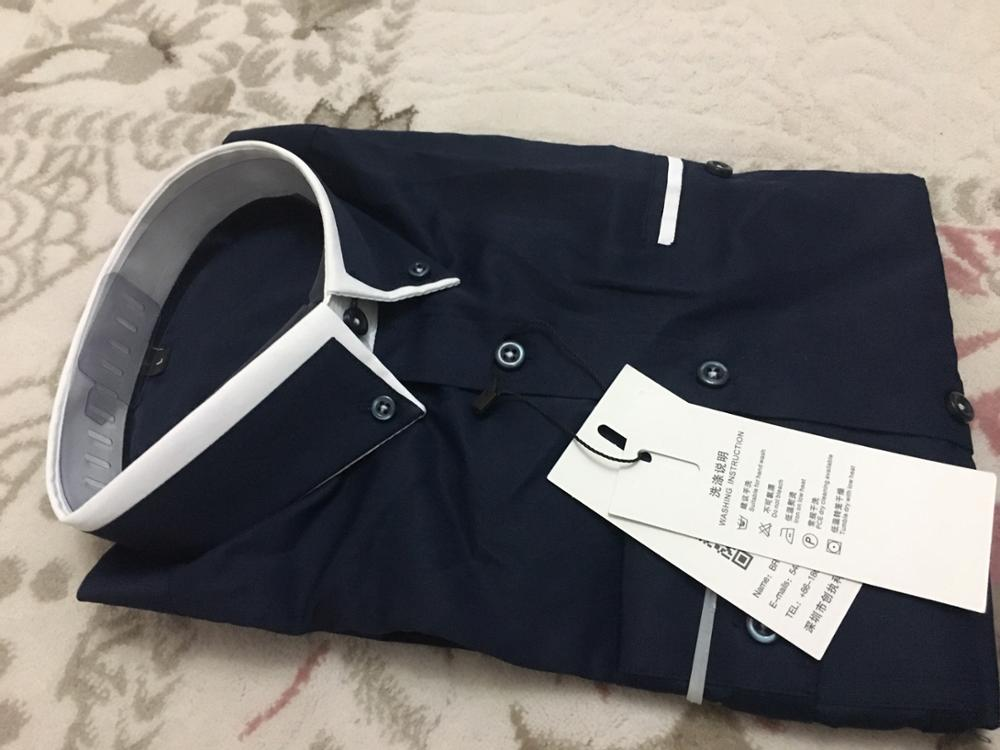shirts: (41, 117, 1000, 730)
